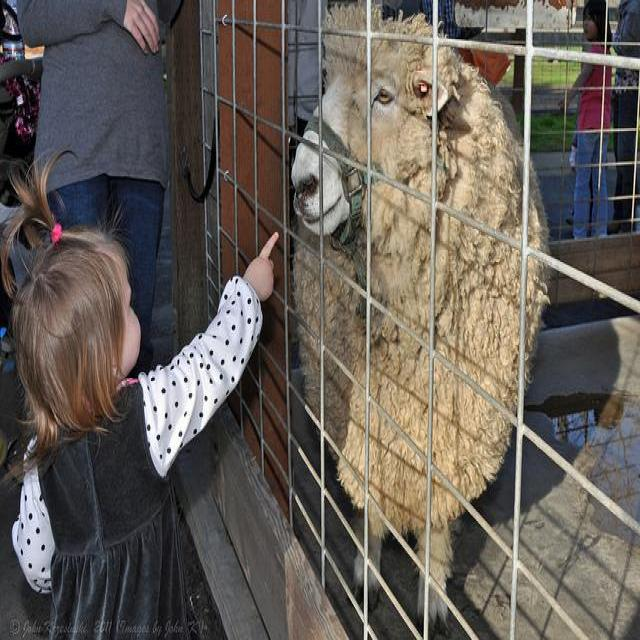Sheep: (294, 8, 549, 636)
